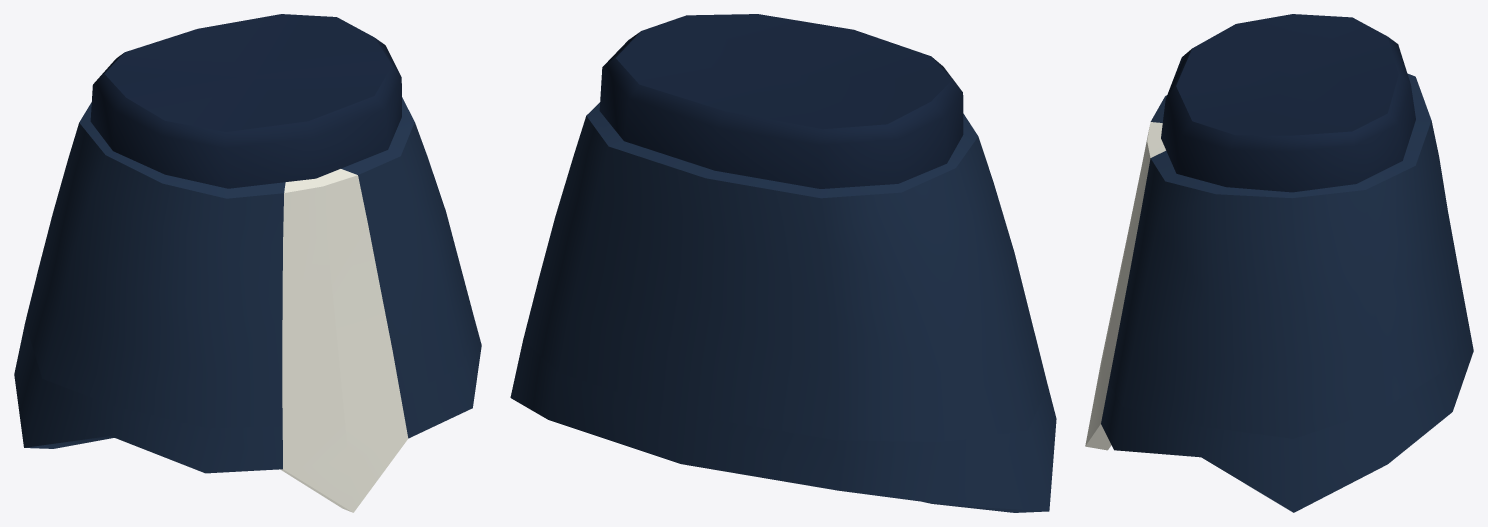
The model's file is Bottom_47.fbx.
3 views of the same model, side by side, from view 1: azimuth 30°, elevation 25°; view 2: azimuth 150°, elevation 25°; view 3: azimuth 270°, elevation 25° (orthographic). The views are drawn at different scales.
Visible parts, largest first — view 1: Bottom_47; view 2: Bottom_47; view 3: Bottom_47.
Boxes of the visible parts, <box> form: Bottom_47: <box>14,14,481,512</box>; Bottom_47: <box>510,14,1056,512</box>; Bottom_47: <box>1085,14,1473,512</box>.
Size of the model in its own units: 62.61 by 49.54 by 46.41.
